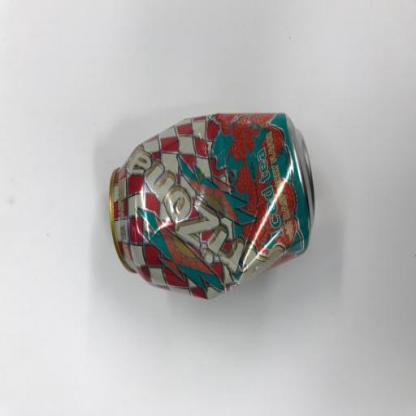trash: (108, 110, 314, 303)
